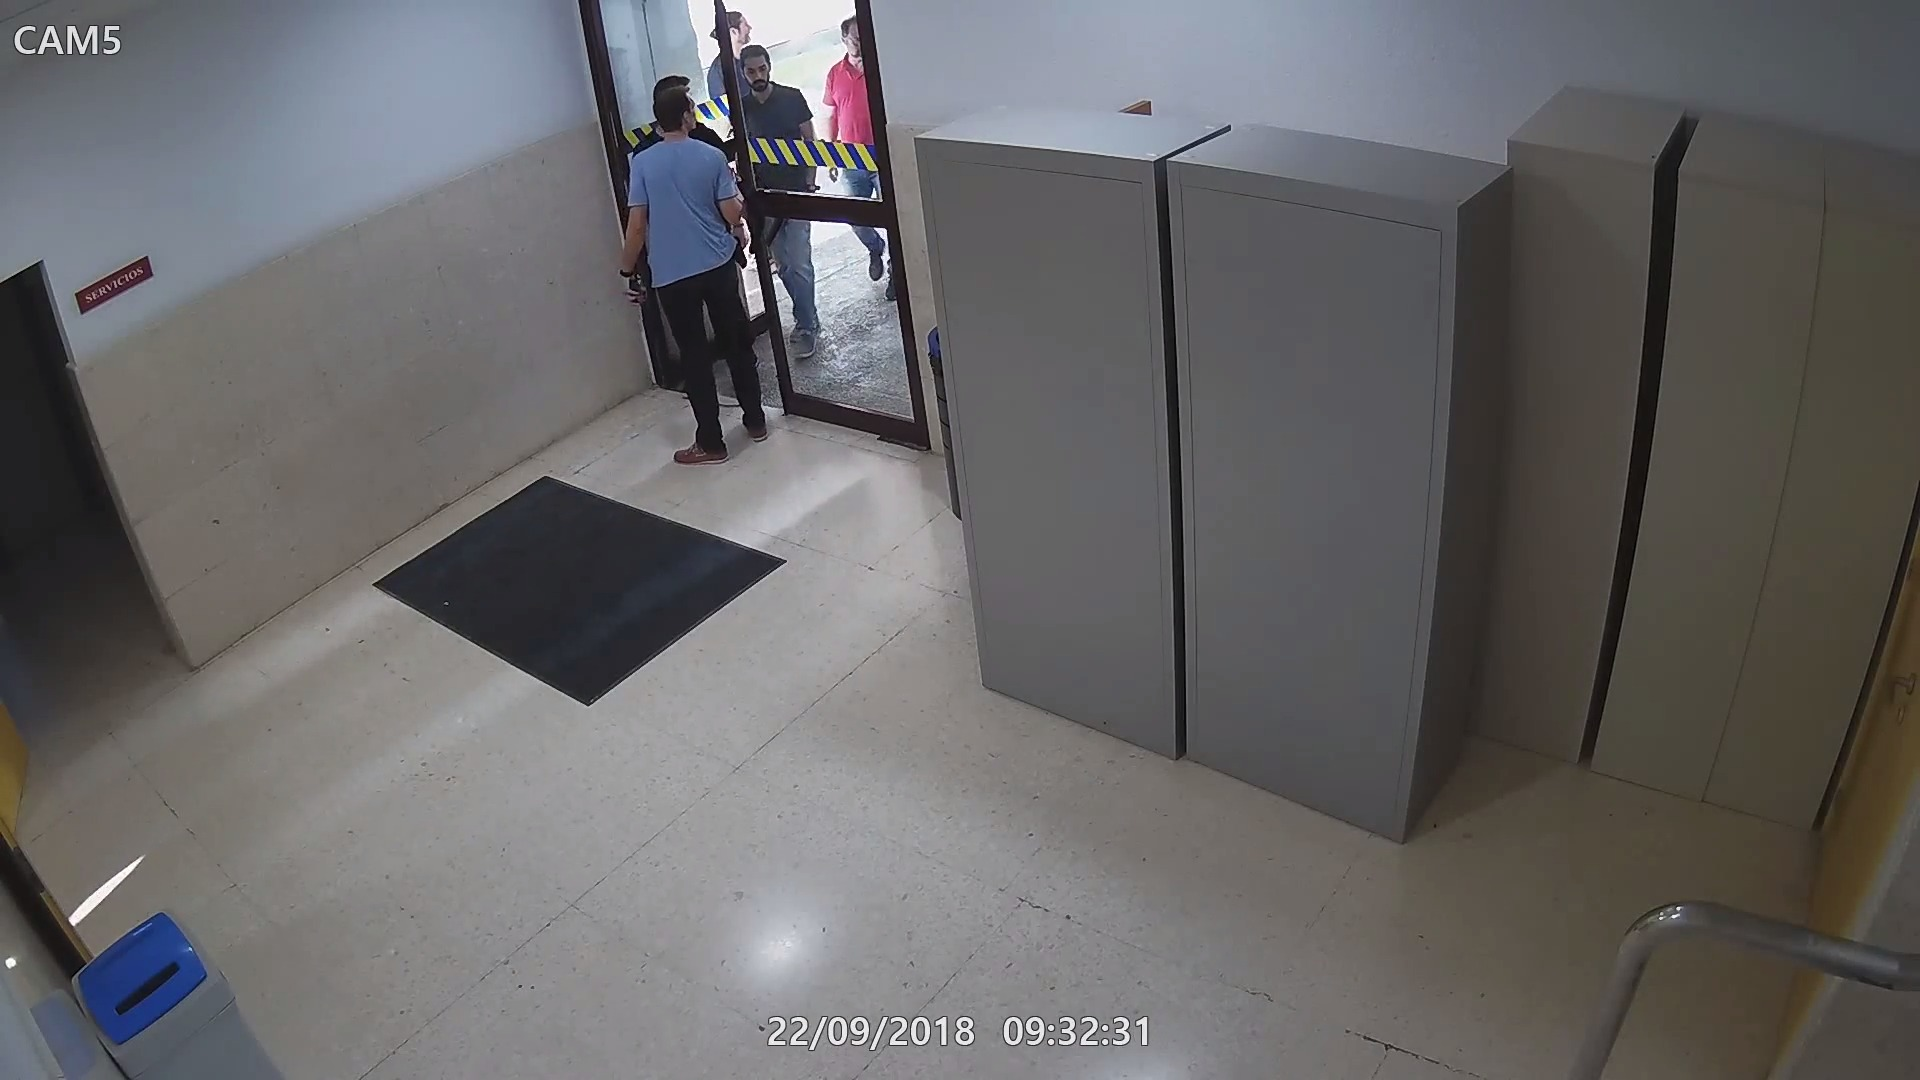Handgun: (618, 268, 655, 316)
Knife: (609, 274, 650, 314)
